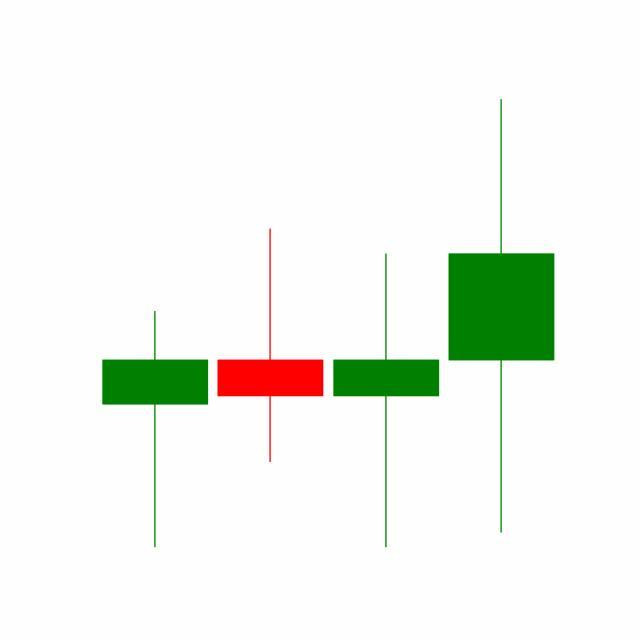Spinning Top: (444, 94, 560, 538)
